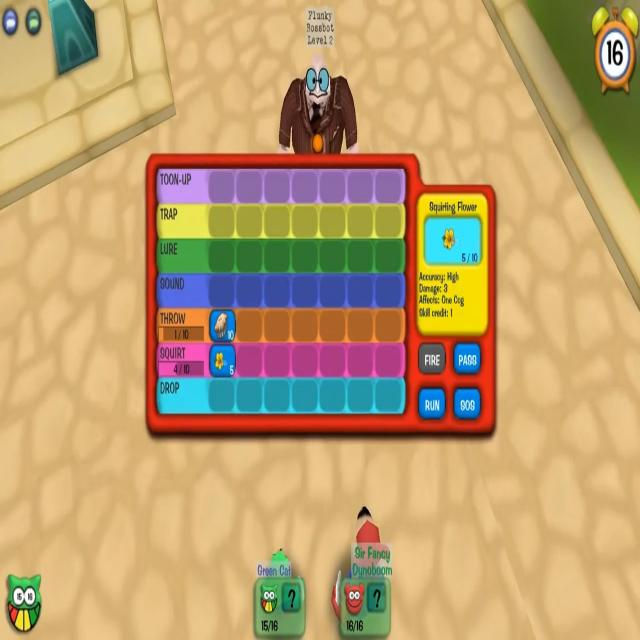flunky: (274, 3, 360, 156)
